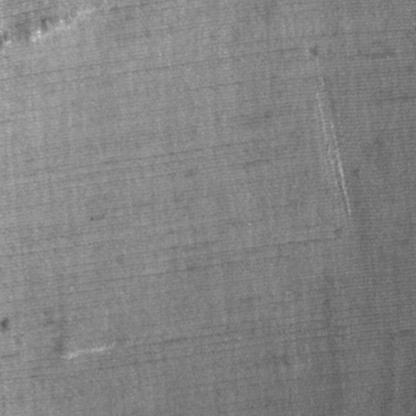thread error: (312, 69, 353, 232), (0, 0, 100, 51), (52, 319, 119, 365)
